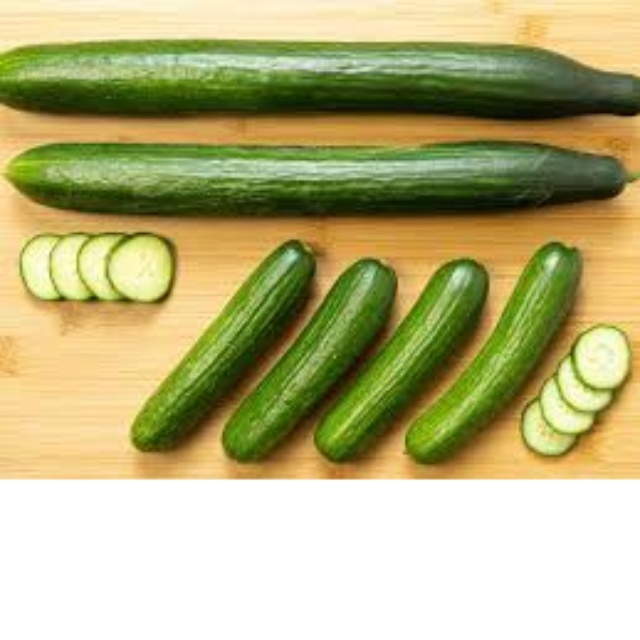dua_leo: (1, 31, 640, 120), (2, 138, 640, 221), (130, 240, 318, 474), (404, 243, 584, 472), (223, 254, 400, 468), (315, 257, 487, 476)
